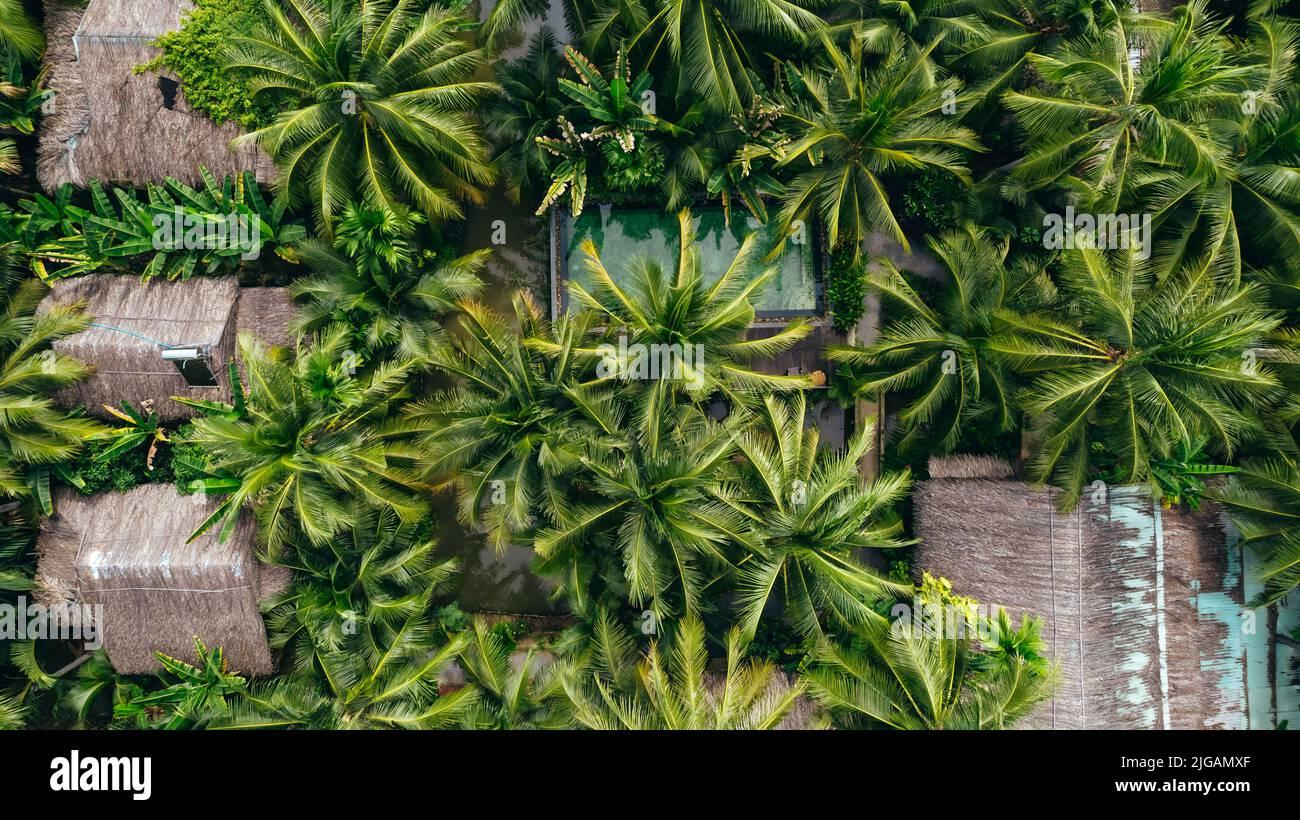coconut_tree: (225, 2, 519, 236), (1004, 237, 1274, 491), (696, 389, 912, 654), (169, 381, 436, 548), (769, 49, 978, 257), (428, 314, 604, 546)
